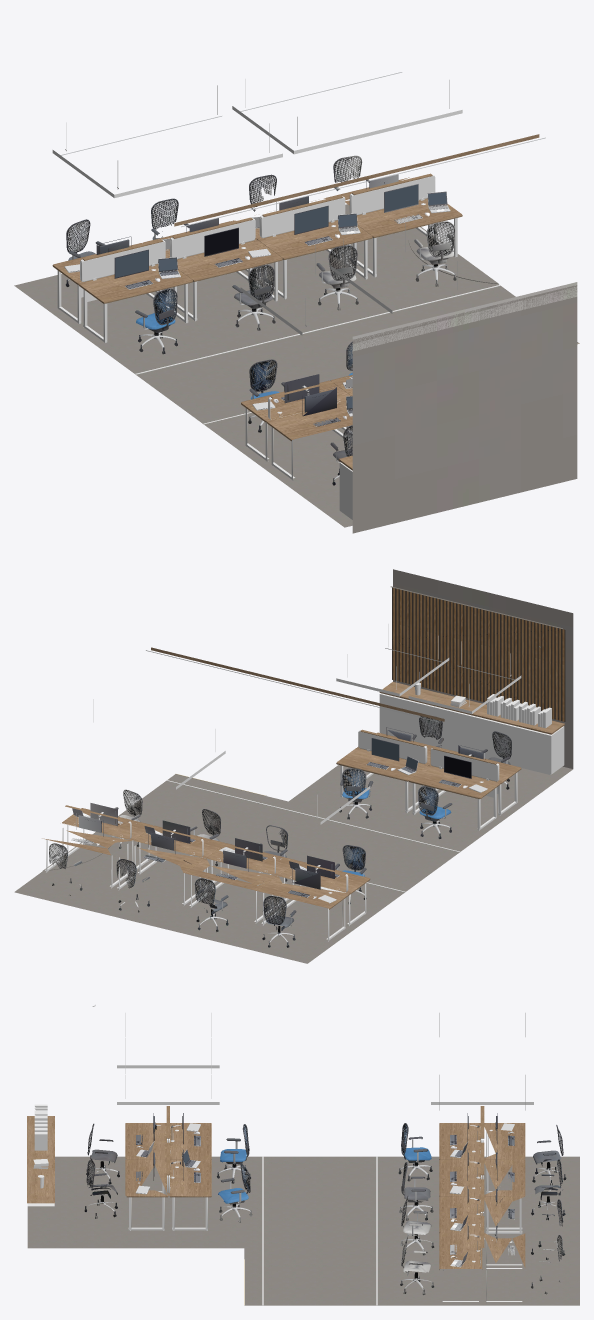
Rendered from z-open_e-lite.full.892cfdc3.glb.
The picture shows the model from 3 angles, top to bottom: view 1: azimuth 30°, elevation 25°; view 2: azimuth 150°, elevation 25°; view 3: azimuth 270°, elevation 25°; orthographic projection. The views are drawn at different scales.
Parts seen in each view (by area): view 1: open_e_plaster, open_e_carpet, open_e_oak, open_e_fx, open_e_satin, open_e_emit, open_e_metal_satin; view 2: open_e_carpet, open_e_satin, open_e_proxy_slat, open_e_oak, open_e_fx, open_e_plaster, open_e_emit, open_e_metal_satin; view 3: open_e_carpet, open_e_oak, open_e_fx, open_e_satin, open_e_metal_satin.
Part boxes in pixels (box(x1,y1,x2,y2)): open_e_plaster: box(352, 282, 577, 533); open_e_carpet: box(14, 204, 579, 527); open_e_oak: box(52, 134, 539, 470); open_e_fx: box(65, 155, 456, 485); open_e_satin: box(52, 79, 500, 519); open_e_emit: box(60, 72, 545, 408); open_e_metal_satin: box(64, 191, 579, 479); open_e_carpet: box(14, 765, 572, 963); open_e_satin: box(45, 624, 564, 941); open_e_proxy_slat: box(392, 587, 565, 721); open_e_oak: box(42, 647, 564, 909); open_e_fx: box(49, 716, 511, 947); open_e_plaster: box(393, 569, 573, 768); open_e_emit: box(146, 586, 562, 817); open_e_metal_satin: box(74, 746, 507, 942); open_e_carpet: box(27, 1156, 579, 1305); open_e_oak: box(27, 1106, 525, 1269); open_e_fx: box(84, 1113, 566, 1294); open_e_satin: box(27, 1005, 533, 1305); open_e_metal_satin: box(88, 1123, 560, 1305).
Bounding box in the file's own units: 6.5 × 3.35 × 10.45.
9 materials, 5 textured.
